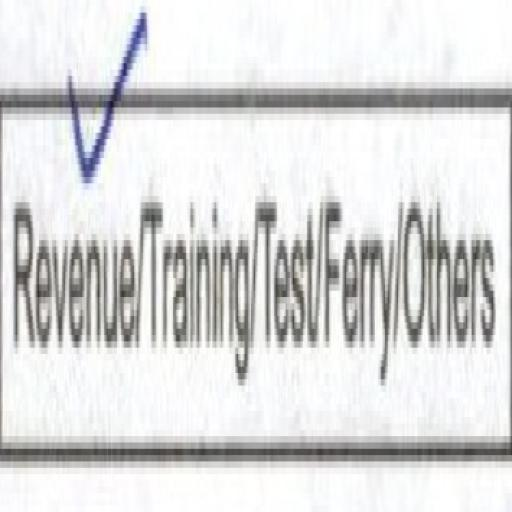check: (2, 32, 141, 493)
